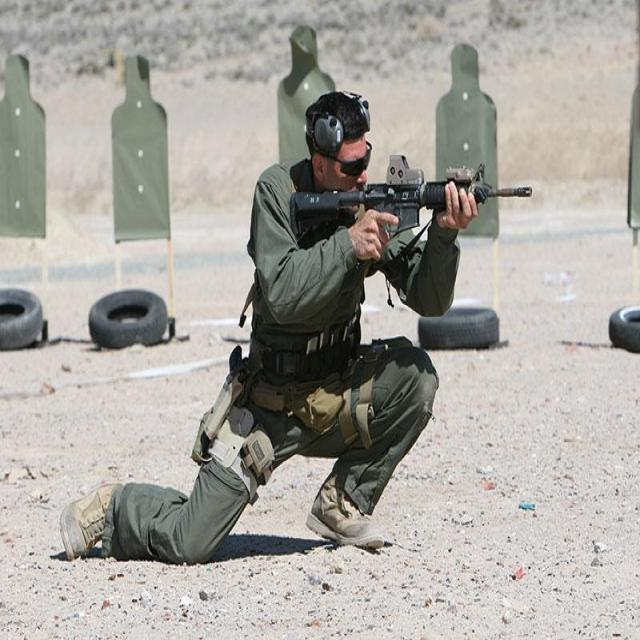Rifle: (289, 153, 533, 251)
